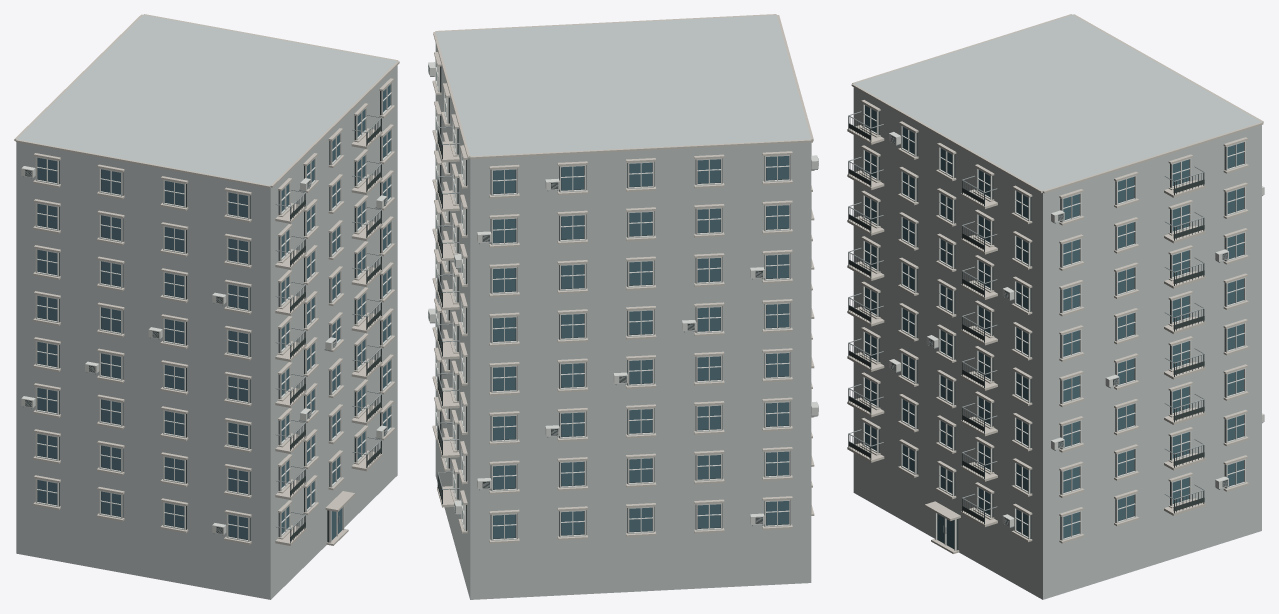
The model's file is completion-444672041.glb.
3 renders of one model, left to right at view 1: azimuth 30°, elevation 25°; view 2: azimuth 150°, elevation 25°; view 3: azimuth 270°, elevation 25°, orthographic. The views are drawn at different scales.
Visible parts, largest first — view 1: 444672041 Block 444672041 mineral plaster, 444672041 glass, 444672041 stone, 444672041 frame, 444672041 dark, 444672041 steel; view 2: 444672041 Block 444672041 mineral plaster, 444672041 glass, 444672041 stone, 444672041 frame, 444672041 dark, 444672041 steel; view 3: 444672041 Block 444672041 mineral plaster, 444672041 glass, 444672041 stone, 444672041 frame, 444672041 dark, 444672041 steel.
Part boxes in pixels (bbox=[...]): 444672041 Block 444672041 mineral plaster: bbox=[16, 15, 397, 599]; 444672041 glass: bbox=[37, 84, 390, 540]; 444672041 stone: bbox=[14, 14, 399, 545]; 444672041 frame: bbox=[21, 82, 392, 542]; 444672041 dark: bbox=[25, 91, 389, 543]; 444672041 steel: bbox=[23, 114, 386, 535]; 444672041 Block 444672041 mineral plaster: bbox=[435, 15, 811, 599]; 444672041 glass: bbox=[436, 64, 788, 538]; 444672041 stone: bbox=[432, 14, 814, 543]; 444672041 frame: bbox=[428, 59, 818, 540]; 444672041 dark: bbox=[428, 65, 790, 539]; 444672041 steel: bbox=[428, 66, 818, 526]; 444672041 Block 444672041 mineral plaster: bbox=[853, 15, 1261, 599]; 444672041 glass: bbox=[865, 105, 1243, 548]; 444672041 stone: bbox=[847, 14, 1263, 553]; 444672041 frame: bbox=[863, 103, 1264, 550]; 444672041 dark: bbox=[848, 111, 1243, 550]; 444672041 steel: bbox=[848, 111, 1263, 533].
Size of the model in its own units: 26.86 by 28.8 by 26.63.
